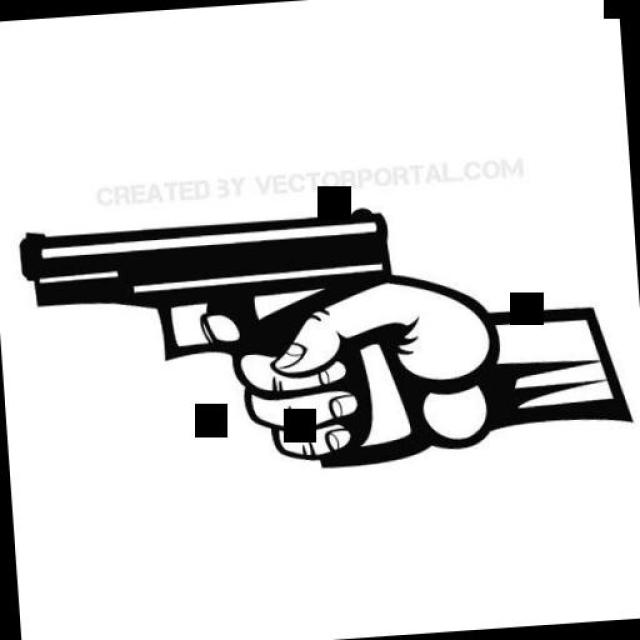gun: (14, 195, 426, 489)
